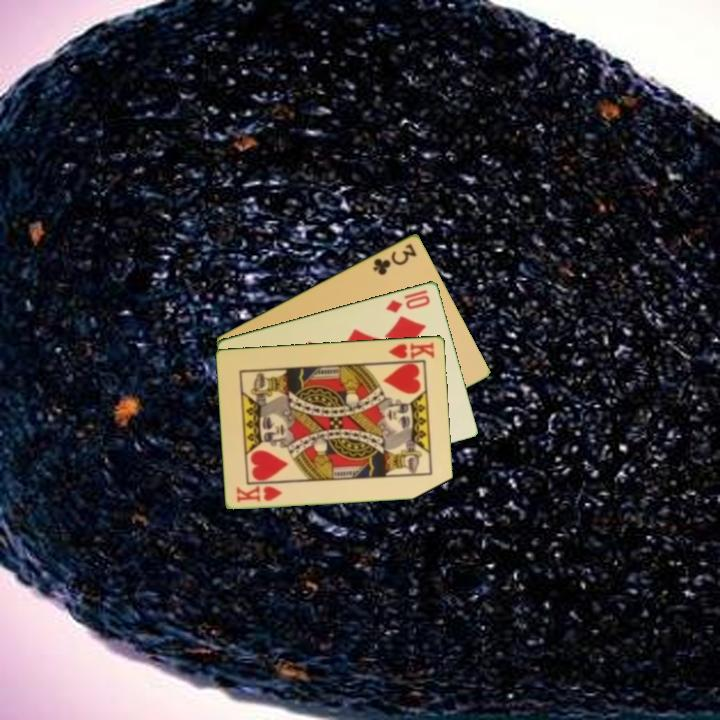10d: (383, 291, 433, 315)
3c: (369, 240, 420, 278)
Kh: (383, 339, 437, 365), (233, 482, 285, 505)
